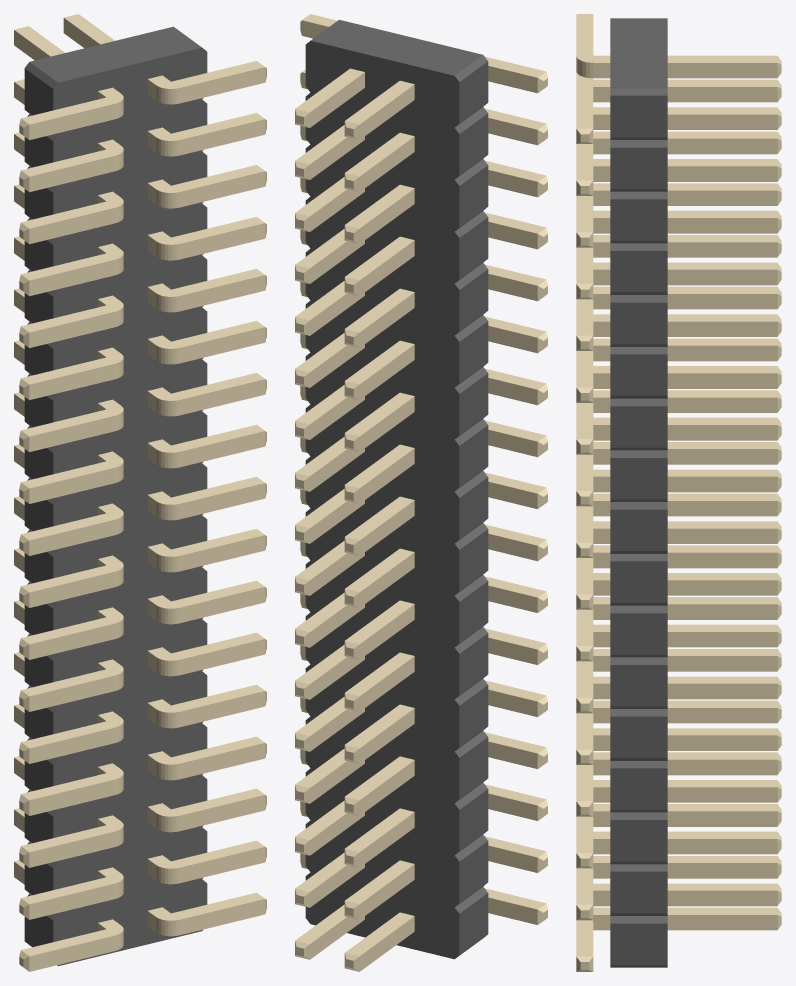
The model's file is PinHeader_2x17_P1.00mm_Vertical_SMD.glb.
3 views of the same model, side by side, from view 1: azimuth 30°, elevation 25°; view 2: azimuth 150°, elevation 25°; view 3: azimuth 270°, elevation 25° (orthographic).
Visible parts, largest first — view 1: Shape_IndexedFaceSet.003, Shape_IndexedFaceSet.001, Shape_IndexedFaceSet.471, Shape_IndexedFaceSet.496, Shape_IndexedFaceSet.456, Shape_IndexedFaceSet.466, Shape_IndexedFaceSet.481, Shape_IndexedFaceSet.486, Shape_IndexedFaceSet.536, Shape_IndexedFaceSet.546, Shape_IndexedFaceSet.441, Shape_IndexedFaceSet.446 (+77 smaller); view 2: Shape_IndexedFaceSet.004, Shape_IndexedFaceSet.001, Shape_IndexedFaceSet.007, Shape_IndexedFaceSet.019, Shape_IndexedFaceSet.025, Shape_IndexedFaceSet.013, Shape_IndexedFaceSet.031, Shape_IndexedFaceSet.037, Shape_IndexedFaceSet.049, Shape_IndexedFaceSet.067, Shape_IndexedFaceSet.073, Shape_IndexedFaceSet.085 (+92 smaller); view 3: Shape_IndexedFaceSet.001, Shape_IndexedFaceSet.002, Shape_IndexedFaceSet.028, Shape_IndexedFaceSet.094, Shape_IndexedFaceSet.010, Shape_IndexedFaceSet.016, Shape_IndexedFaceSet.022, Shape_IndexedFaceSet.034, Shape_IndexedFaceSet.040, Shape_IndexedFaceSet.046, Shape_IndexedFaceSet.052, Shape_IndexedFaceSet.058 (+109 smaller).
Part boxes in pixels (x1,y1,x2,y2): Shape_IndexedFaceSet.003: (53, 47, 207, 966); Shape_IndexedFaceSet.001: (30, 26, 201, 82); Shape_IndexedFaceSet.471: (179, 223, 265, 259); Shape_IndexedFaceSet.496: (179, 743, 265, 779); Shape_IndexedFaceSet.456: (179, 587, 265, 623); Shape_IndexedFaceSet.466: (179, 171, 265, 207); Shape_IndexedFaceSet.481: (179, 379, 265, 415); Shape_IndexedFaceSet.486: (179, 327, 265, 363); Shape_IndexedFaceSet.536: (179, 119, 265, 155); Shape_IndexedFaceSet.546: (179, 67, 265, 103); Shape_IndexedFaceSet.441: (179, 691, 265, 727); Shape_IndexedFaceSet.446: (179, 639, 265, 675); Shape_IndexedFaceSet.004: (305, 40, 459, 959); Shape_IndexedFaceSet.001: (311, 19, 482, 75); Shape_IndexedFaceSet.007: (459, 61, 488, 123); Shape_IndexedFaceSet.019: (459, 165, 488, 227); Shape_IndexedFaceSet.025: (459, 217, 488, 279); Shape_IndexedFaceSet.013: (459, 113, 488, 175); Shape_IndexedFaceSet.031: (459, 269, 488, 331); Shape_IndexedFaceSet.037: (459, 321, 488, 383); Shape_IndexedFaceSet.049: (459, 425, 488, 487); Shape_IndexedFaceSet.067: (459, 581, 488, 643); Shape_IndexedFaceSet.073: (459, 633, 488, 695); Shape_IndexedFaceSet.085: (459, 737, 488, 799); Shape_IndexedFaceSet.001: (610, 18, 667, 88); Shape_IndexedFaceSet.002: (610, 95, 667, 137); Shape_IndexedFaceSet.028: (610, 302, 667, 344); Shape_IndexedFaceSet.094: (610, 871, 667, 913); Shape_IndexedFaceSet.010: (610, 147, 667, 188); Shape_IndexedFaceSet.016: (610, 199, 667, 240); Shape_IndexedFaceSet.022: (610, 251, 667, 292); Shape_IndexedFaceSet.034: (610, 354, 667, 395); Shape_IndexedFaceSet.040: (610, 406, 667, 447); Shape_IndexedFaceSet.046: (610, 458, 667, 499); Shape_IndexedFaceSet.052: (610, 509, 667, 550); Shape_IndexedFaceSet.058: (610, 561, 667, 602).
Size of the model in its own units: 1.93 by 6.69 by 1.42.
